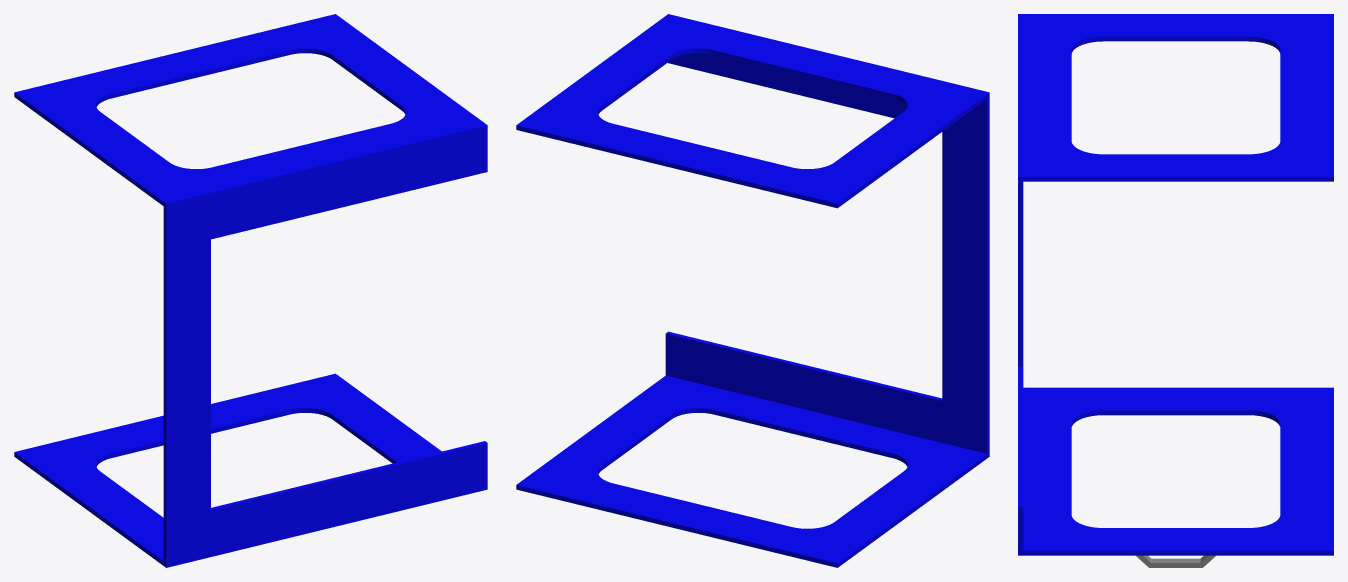
File: IMM-Panneling.gltf
3 renders of one model, left to right at view 1: azimuth 30°, elevation 25°; view 2: azimuth 150°, elevation 25°; view 3: azimuth 270°, elevation 25°, orthographic. The views are drawn at different scales.
Visible parts, largest first — view 1: mesh6_meshnode_6, mesh29_meshnode_29, mesh10_meshnode_10, mesh7_meshnode_7, mesh35_meshnode_35, mesh2_meshnode_2, mesh13_meshnode_13; view 2: mesh5_meshnode_5, mesh29_meshnode_29, mesh10_meshnode_10, mesh7_meshnode_7, mesh9_meshnode_9, mesh0_meshnode_0, mesh17_meshnode_17, mesh31_meshnode_31, mesh2_meshnode_2; view 3: mesh29_meshnode_29, mesh10_meshnode_10, mesh1_meshnode_1, mesh8_meshnode_8, mesh11_meshnode_11, mesh37_meshnode_37, mesh3_meshnode_3, mesh2_meshnode_2, mesh24_meshnode_24.
Part boxes in pixels (left/top/right/bottom): mesh6_meshnode_6: left=166, top=125, right=487, bottom=567; mesh29_meshnode_29: left=14, top=14, right=487, bottom=203; mesh10_meshnode_10: left=14, top=373, right=441, bottom=560; mesh7_meshnode_7: left=14, top=92, right=166, bottom=567; mesh35_meshnode_35: left=111, top=50, right=289, bottom=98; mesh2_meshnode_2: left=211, top=441, right=487, bottom=510; mesh13_meshnode_13: left=111, top=410, right=289, bottom=457; mesh5_meshnode_5: left=665, top=53, right=986, bottom=453; mesh29_meshnode_29: left=516, top=14, right=989, bottom=203; mesh10_meshnode_10: left=516, top=375, right=986, bottom=563; mesh7_meshnode_7: left=837, top=92, right=989, bottom=567; mesh9_meshnode_9: left=516, top=125, right=837, bottom=208; mesh0_meshnode_0: left=516, top=485, right=837, bottom=567; mesh17_meshnode_17: left=714, top=410, right=892, bottom=457; mesh31_meshnode_31: left=714, top=50, right=892, bottom=98; mesh2_meshnode_2: left=666, top=331, right=942, bottom=400; mesh29_meshnode_29: left=1018, top=14, right=1333, bottom=176; mesh10_meshnode_10: left=1023, top=387, right=1333, bottom=550; mesh1_meshnode_1: left=1018, top=507, right=1333, bottom=555; mesh8_meshnode_8: left=1018, top=177, right=1333, bottom=225; mesh11_meshnode_11: left=1103, top=410, right=1248, bottom=415; mesh37_meshnode_37: left=1103, top=36, right=1248, bottom=41; mesh3_meshnode_3: left=1018, top=225, right=1023, bottom=366; mesh2_meshnode_2: left=1018, top=366, right=1023, bottom=506; mesh24_meshnode_24: left=1136, top=555, right=1215, bottom=567.
Size of the model in its own units: 1.83 by 2.07 by 1.5.
